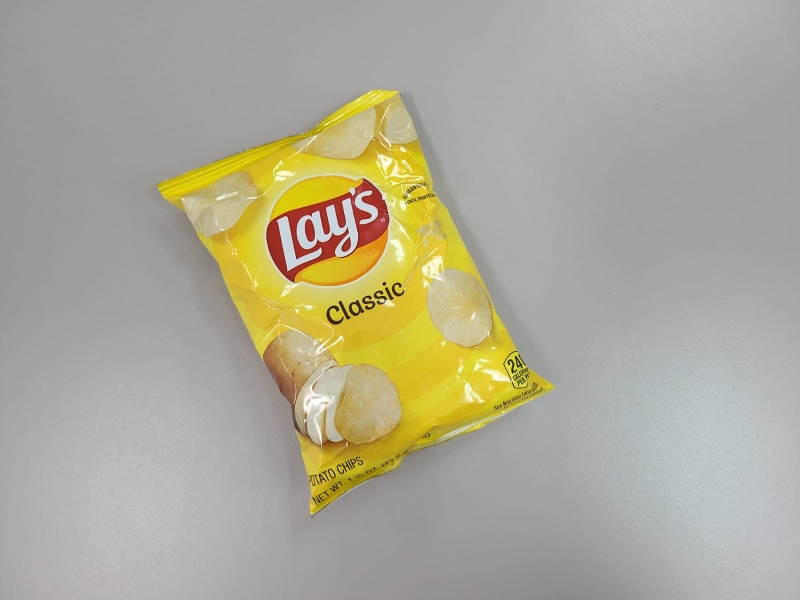lays: (157, 90, 559, 521)
